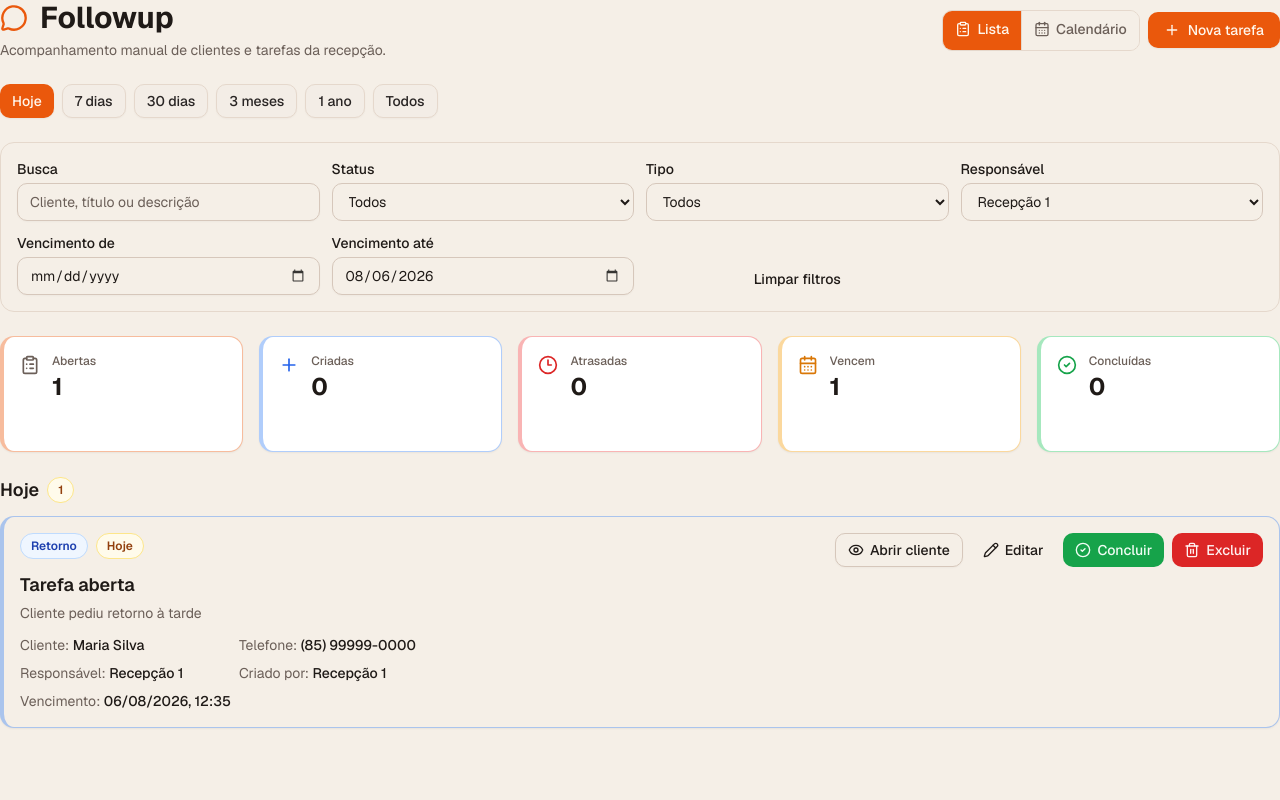
Test: FollowupPage › abre a modal de tarefa mesmo quando a listagem de responsáveis falha
Step 1. Click the button "Nova tarefa" → (1214, 30), box [1148,12,1279,48]
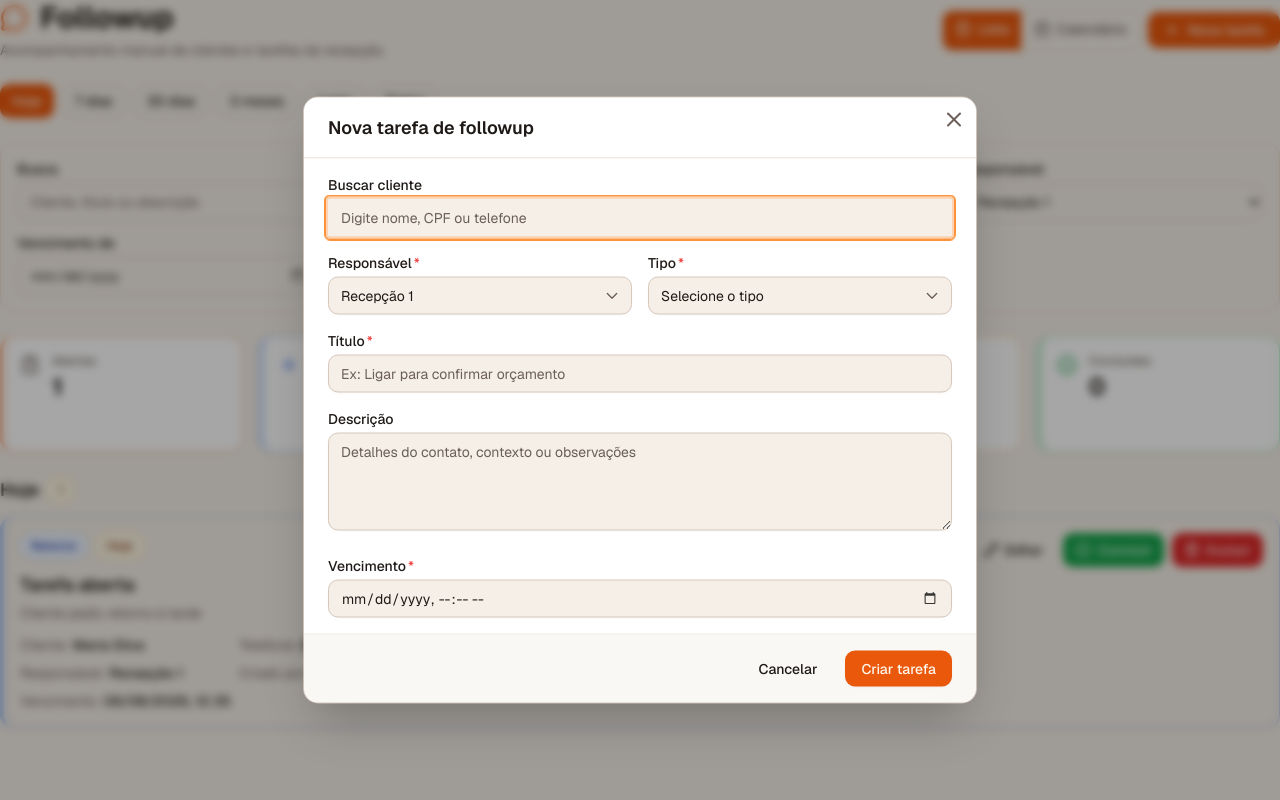
Result: the dropdown labelled "Responsável*" is shown at [328,276,632,314]
